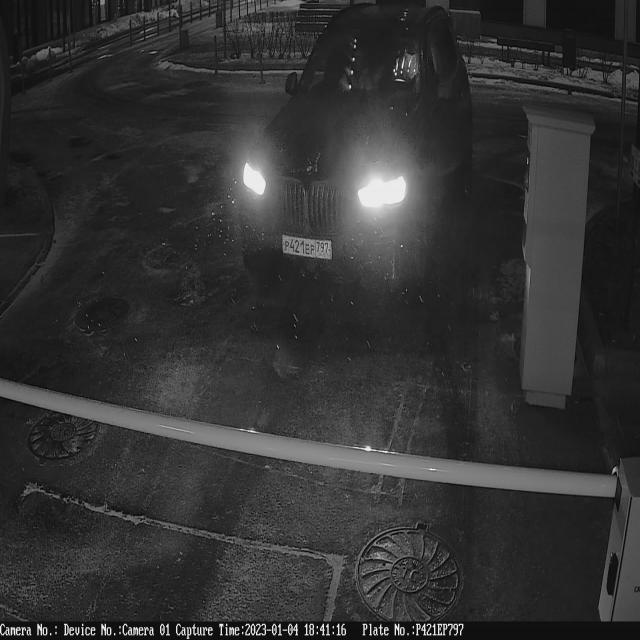car-plate-numbers: (280, 228, 337, 269)
